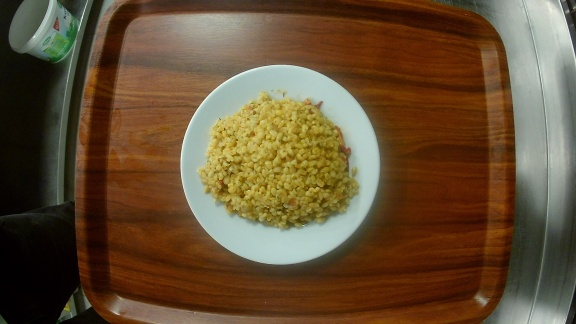bulgur: (182, 65, 381, 264)
